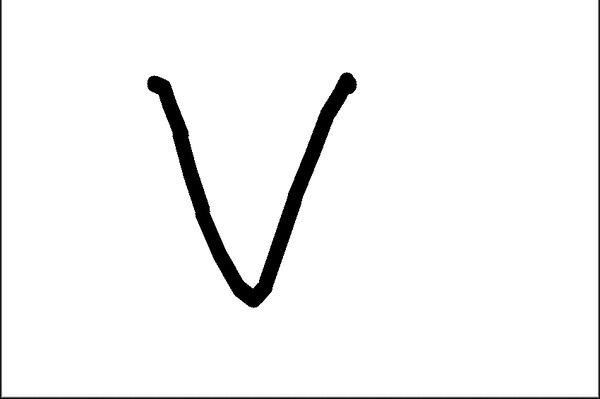V: (140, 61, 360, 316)
